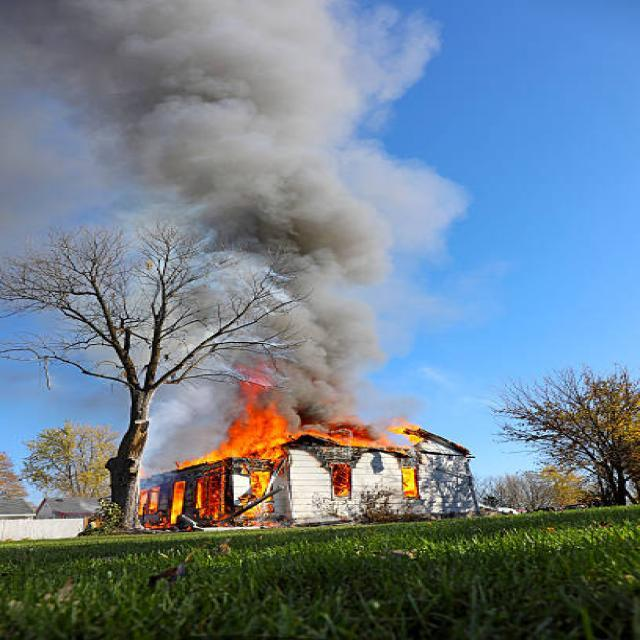Fire: (136, 396, 428, 528)
Smoke: (9, 0, 372, 422)
